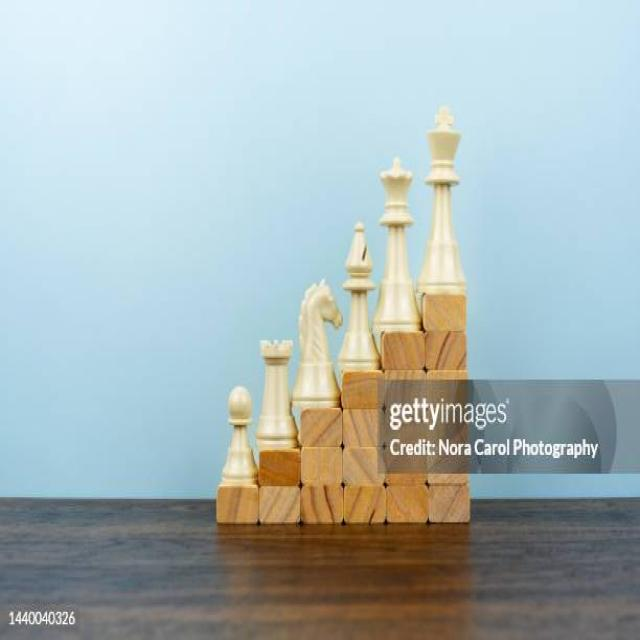white-bishop: (337, 221, 382, 370)
white-king: (417, 104, 468, 294)
white-knight: (292, 278, 344, 407)
white-pawn: (222, 386, 258, 484)
white-queen: (373, 158, 422, 332)
white-rook: (255, 341, 299, 448)
